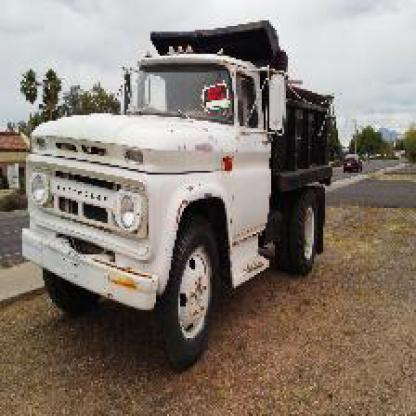not_emergency: (17, 39, 370, 373)
